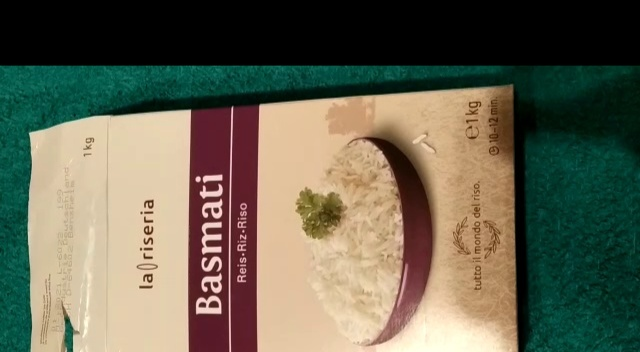basmati_rice: (20, 81, 525, 352)
